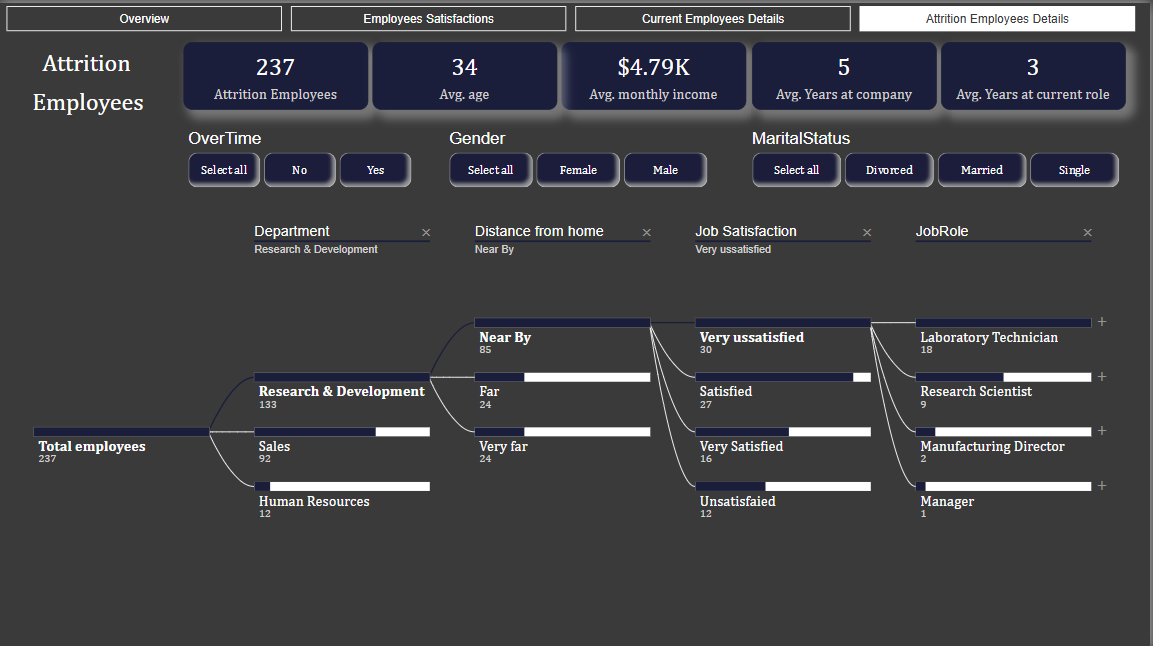

The page's visual inventory and layout, read from the dashboard file:
{"tool":"powerbi","page":{"name":"Attrition Employees Details","canvas":[1280,720],"ordinal":3},"visuals":[{"type":"shape","box":[13,66.7,170.8,639.2],"z":0},{"type":"slicer","fields":{"Values":["HR-Employee-Attrition.MaritalStatus"]},"box":[27.7,218,143.1,214.7],"z":1000},{"type":"card","title":"Current Employees","fields":{"Values":["_Measures.Attrition Employees"]},"box":[204.9,67.4,204.9,74.8],"z":2000},{"type":"card","title":"Avg. monthly income","fields":{"Values":["_Measures.Avg. monthly income"]},"box":[626,67.4,205,75],"z":3000},{"type":"card","title":"Avg. Years at company","fields":{"Values":["_Measures.Avg. Years at company"]},"box":[836.6,67.4,205,75],"z":4000},{"type":"card","title":"Avg. Years at current role","fields":{"Values":["_Measures.Avg. Years at current role"]},"box":[1047.5,66.7,213.1,76.4],"z":5000},{"type":"card","title":"Avg. age","fields":{"Values":["_Measures.Avg. age"]},"box":[415.5,67.4,205,75],"z":6000},{"type":"textbox","box":[14.6,79.7,169.2,43.9],"z":7000},{"type":"textbox","box":[14.6,117.1,169.2,52],"z":8000},{"type":"pageNavigator","box":[13.6,14.5,1248.2,35.5],"z":9000},{"type":"decompositionTreeVisual","fields":{"ExplainBy":["HR-Employee-Attrition.Job Involvment","HR-Employee-Attrition.Distance from home","HR-Employee-Attrition.Age Group","HR-Employee-Attrition.Relationship Satisfaction","HR-Employee-Attrition.WorkLife Balance ","HR-Employee-Attrition.EducationField","HR-Employee-Attrition.Environment Satisfaction ","HR-Employee-Attrition.Job Satisfaction","HR-Employee-Attrition.JobRole","HR-Employee-Attrition.Department","HR-Employee-Attrition.YearsAtCompany","HR-Employee-Attrition.Performance Rating "],"Analyze":["_Measures.Total emplyees"]},"box":[204.9,157.8,1055.6,549.8],"z":10000},{"type":"slicer","fields":{"Values":["HR-Employee-Attrition.Gender"]},"box":[27.7,440.7,143.1,125.2],"z":11000},{"type":"slicer","fields":{"Values":["HR-Employee-Attrition.OverTime"]},"box":[28.8,573.9,142.3,125.7],"z":11001}]}

Visuals, with their boxes in screenshot pixels (x1, y1, x2, y2), scaled from the page's 1280x720 canvas onto the 1153x646 screenshot:
shape: 12,60,166,633
slicer - HR-Employee-Attrition.MaritalStatus: 25,196,154,388
"Current Employees" card: 185,60,369,128
"Avg. monthly income" card: 564,60,749,128
"Avg. Years at company" card: 754,60,938,128
"Avg. Years at current role" card: 944,60,1136,128
"Avg. age" card: 374,60,559,128
textbox: 13,72,166,111
textbox: 13,105,166,152
pageNavigator: 12,13,1137,45
decompositionTreeVisual - HR-Employee-Attrition.Job Involvment x HR-Employee-Attrition.Distance from home: 185,142,1135,635
slicer - HR-Employee-Attrition.Gender: 25,395,154,508
slicer - HR-Employee-Attrition.OverTime: 26,515,154,628
